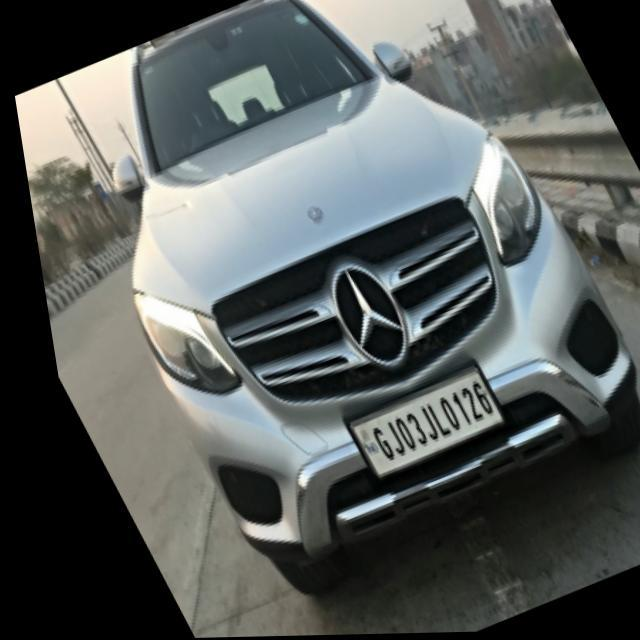license_plate: (324, 371, 502, 485)
